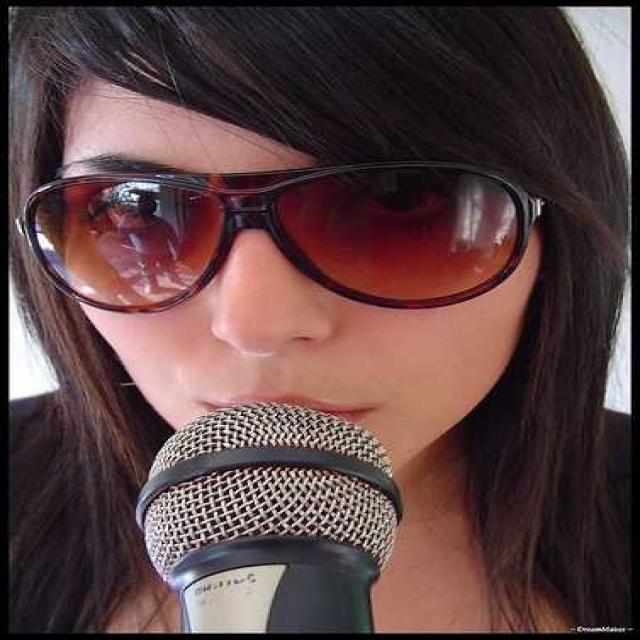microphone: (138, 398, 424, 640)
